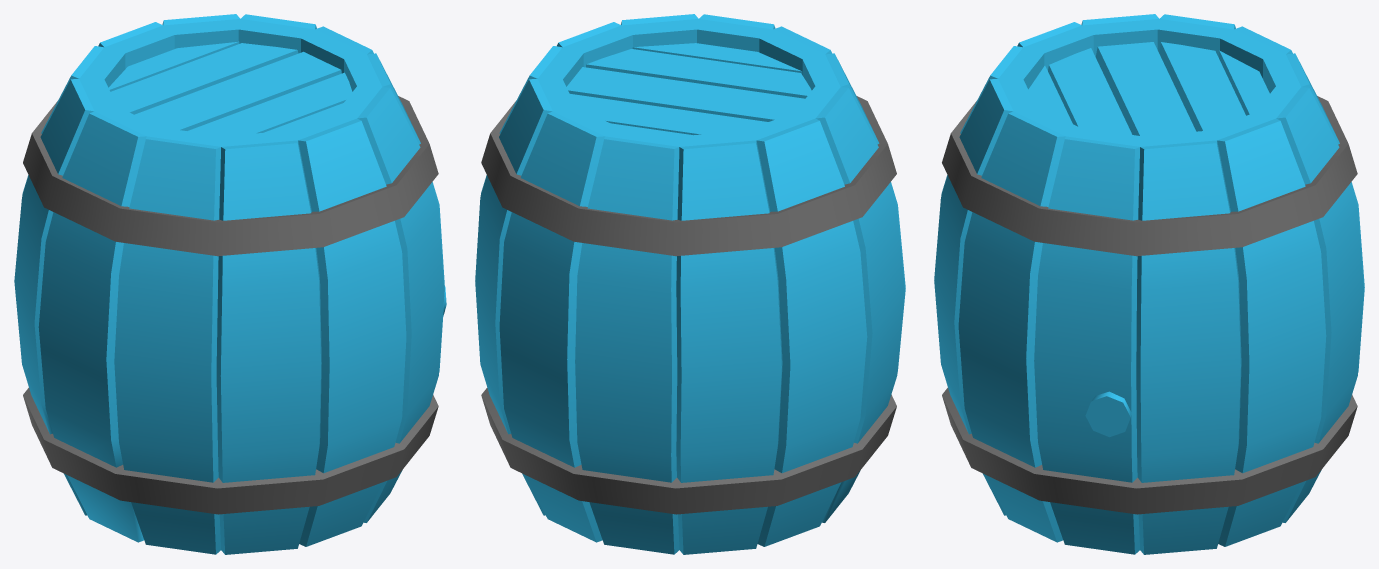
Rendered from barrel.fbx.
The picture shows the model from 3 angles, left to right: view 1: azimuth 30°, elevation 25°; view 2: azimuth 150°, elevation 25°; view 3: azimuth 270°, elevation 25°; orthographic projection.
Visible parts, largest first — view 1: barrel; view 2: barrel; view 3: barrel.
Boxes of the visible parts, box(x1,y1,x2,y2) form: barrel: box(14, 14, 446, 554); barrel: box(475, 14, 905, 554); barrel: box(934, 14, 1364, 554).
Bounding box in the file's own units: 94.25 × 96.3 × 92.67.
